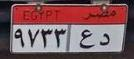3: (53, 27, 67, 50), (41, 27, 54, 49)
7: (28, 28, 40, 49)
9: (13, 27, 25, 50)
ain: (78, 28, 95, 51)
daal: (98, 29, 111, 49)
